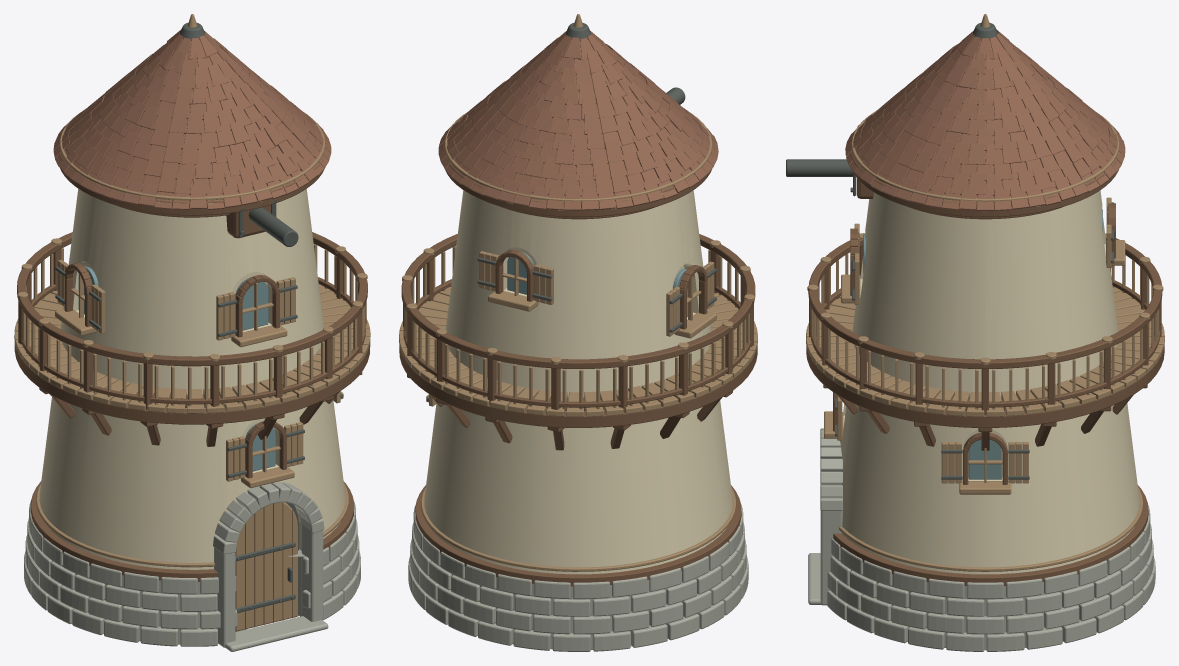
The model's file is SM_MillTower.fbx.
The picture shows the model from 3 angles, left to right: view 1: azimuth 30°, elevation 25°; view 2: azimuth 150°, elevation 25°; view 3: azimuth 270°, elevation 25°; orthographic projection.
Visible parts, largest first — view 1: SM_MillTower; view 2: SM_MillTower; view 3: SM_MillTower.
Part boxes in pixels (bbox=[...]): SM_MillTower: bbox=[14, 14, 370, 651]; SM_MillTower: bbox=[399, 14, 757, 651]; SM_MillTower: bbox=[786, 14, 1164, 651].
Bounding box in the file's own units: 724 × 764 × 1263.
